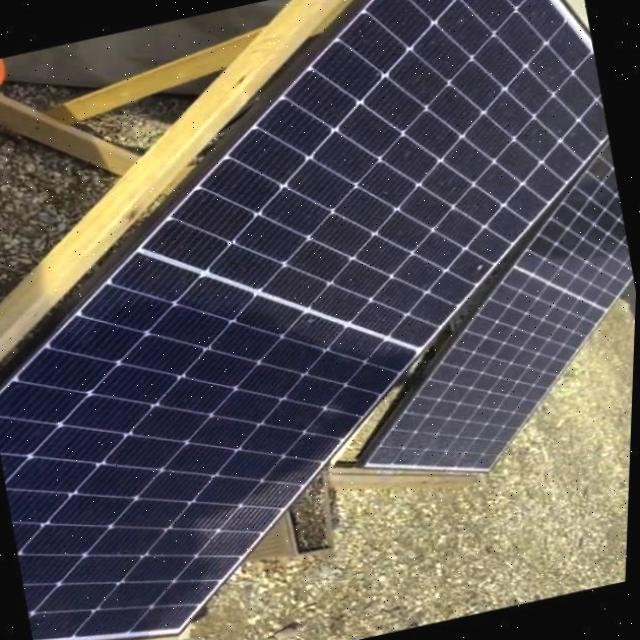Normal Solar Panel: (0, 0, 640, 640), (307, 138, 640, 496)
